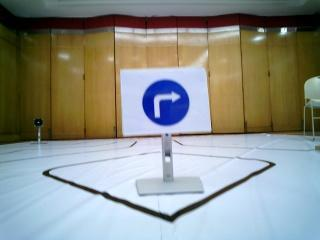right: (124, 72, 208, 132)
